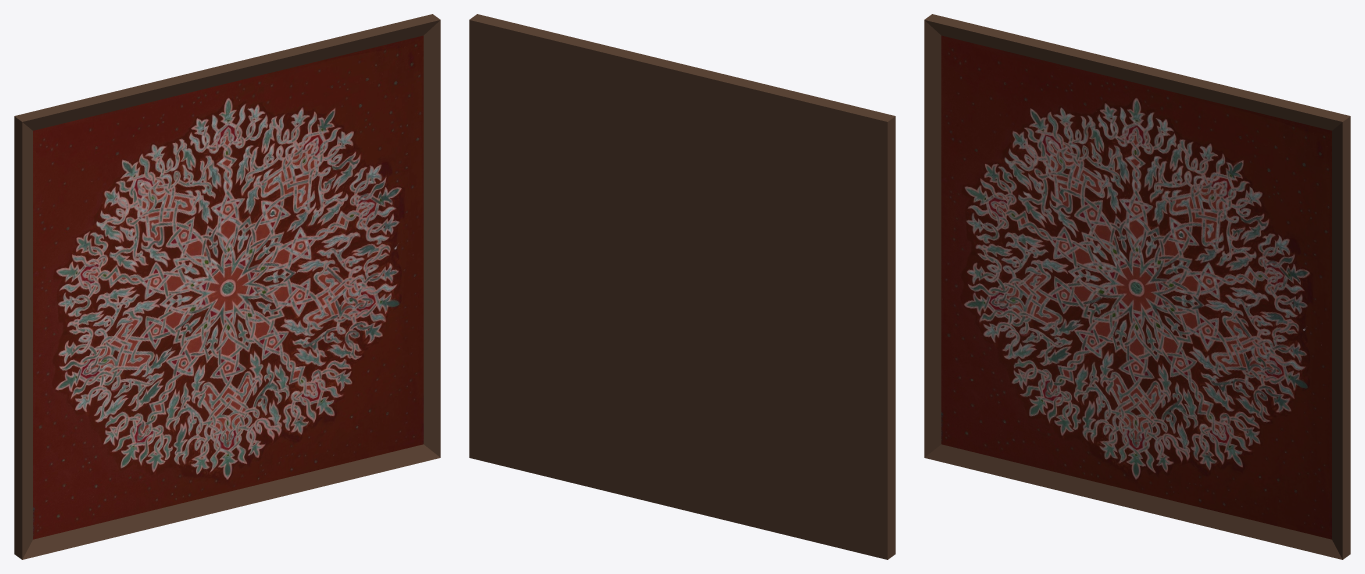
The model's file is slipper-orchids-orchids30-garnet-red-a0-walnut-tray-v2.glb.
3 renders of one model, left to right at view 1: azimuth 30°, elevation 25°; view 2: azimuth 150°, elevation 25°; view 3: azimuth 330°, elevation 25°, orthographic.
Visible parts, largest first — view 1: FramedPrint; view 2: FramedPrint; view 3: FramedPrint.
Boxes of the visible parts, x1,y1,x2,y2 form: FramedPrint: [14, 14, 440, 559]; FramedPrint: [469, 14, 895, 559]; FramedPrint: [924, 14, 1350, 559].
Size of the model in its own units: 0.9 by 0.9 by 0.03.
Materials: 2 (1 with a texture image).
